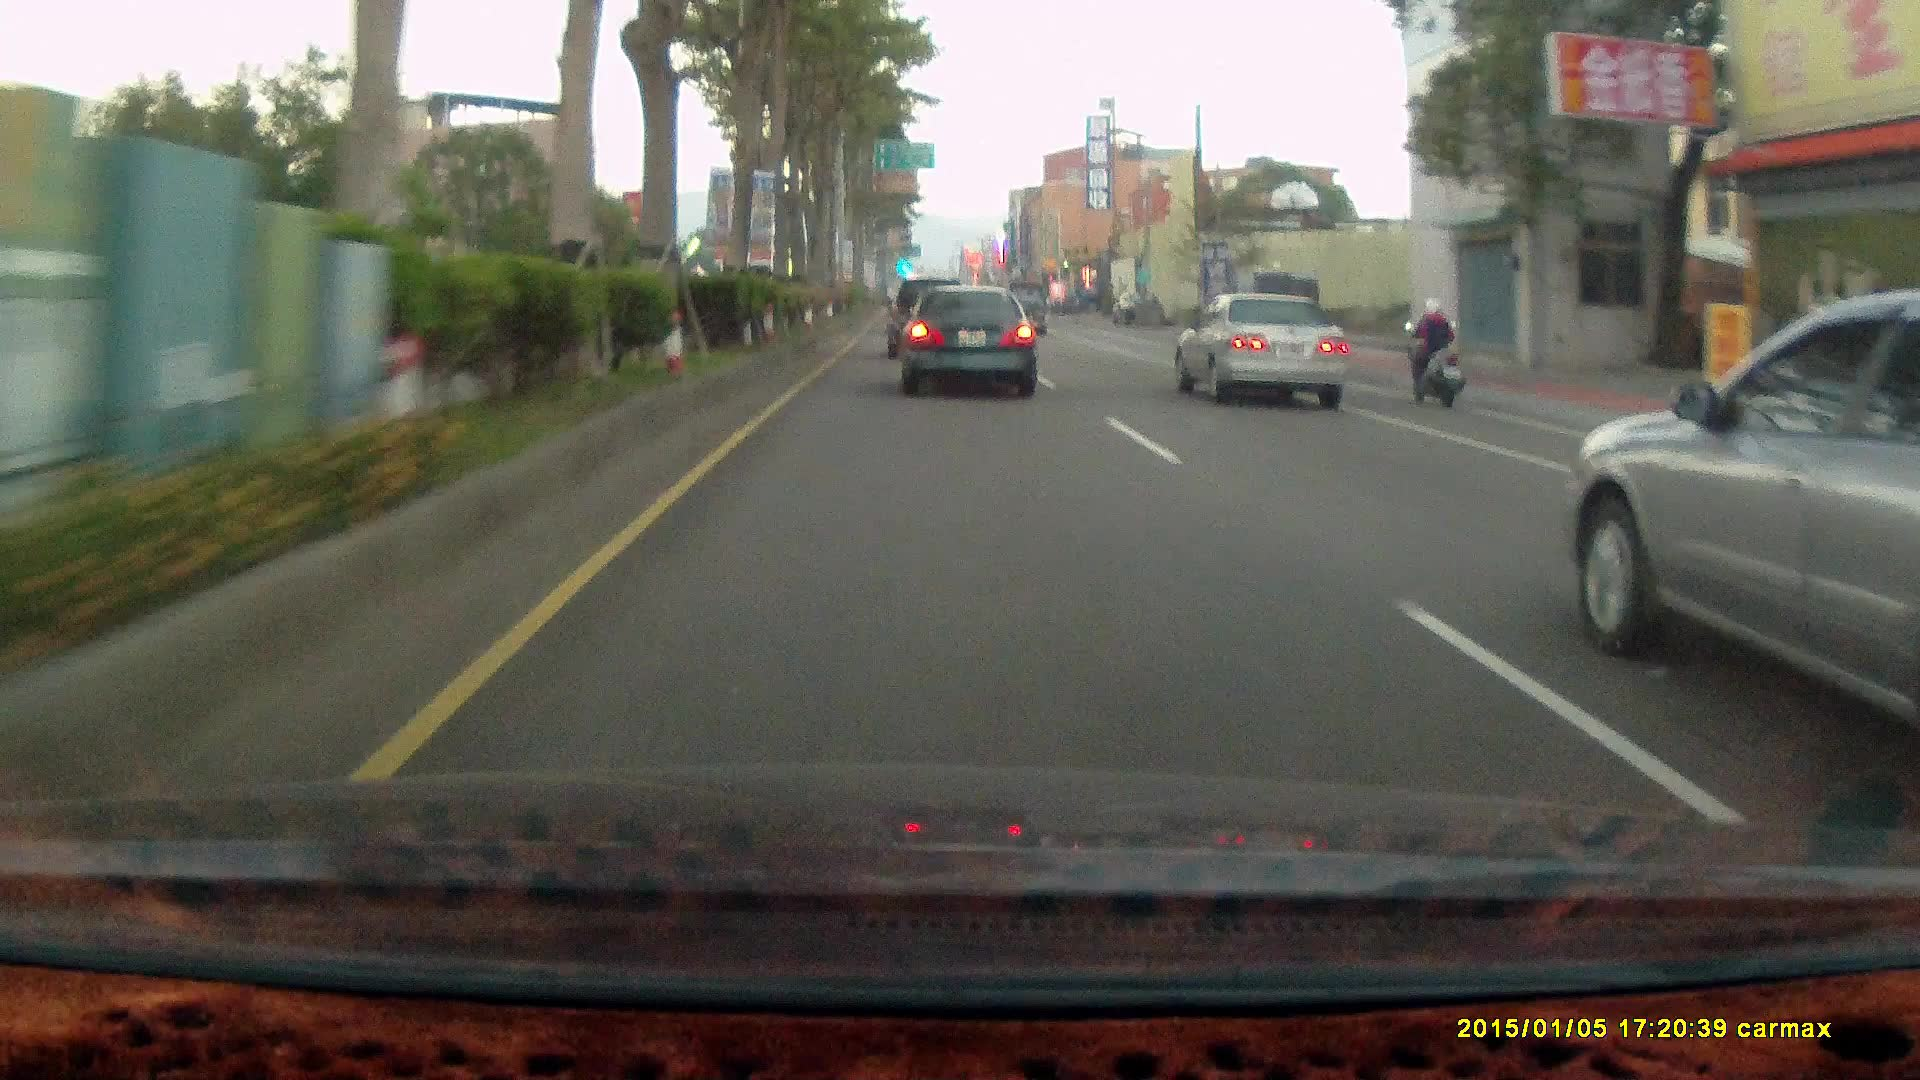rider: (1391, 288, 1475, 418), (1402, 296, 1467, 411)
vehicle: (1564, 309, 1920, 809), (1172, 294, 1350, 412), (1181, 301, 1351, 411), (898, 291, 1038, 403), (898, 289, 1037, 400), (1227, 280, 1318, 362), (888, 279, 973, 363), (885, 278, 967, 359), (1001, 283, 1048, 337)
